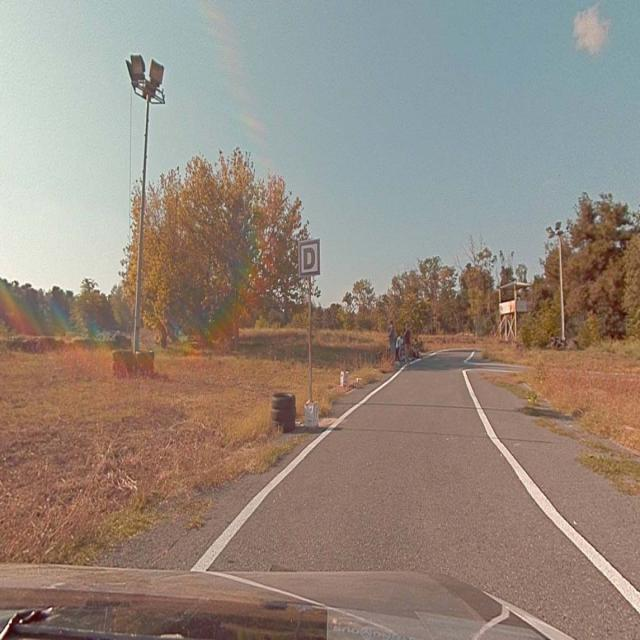durak: (298, 241, 320, 275)
